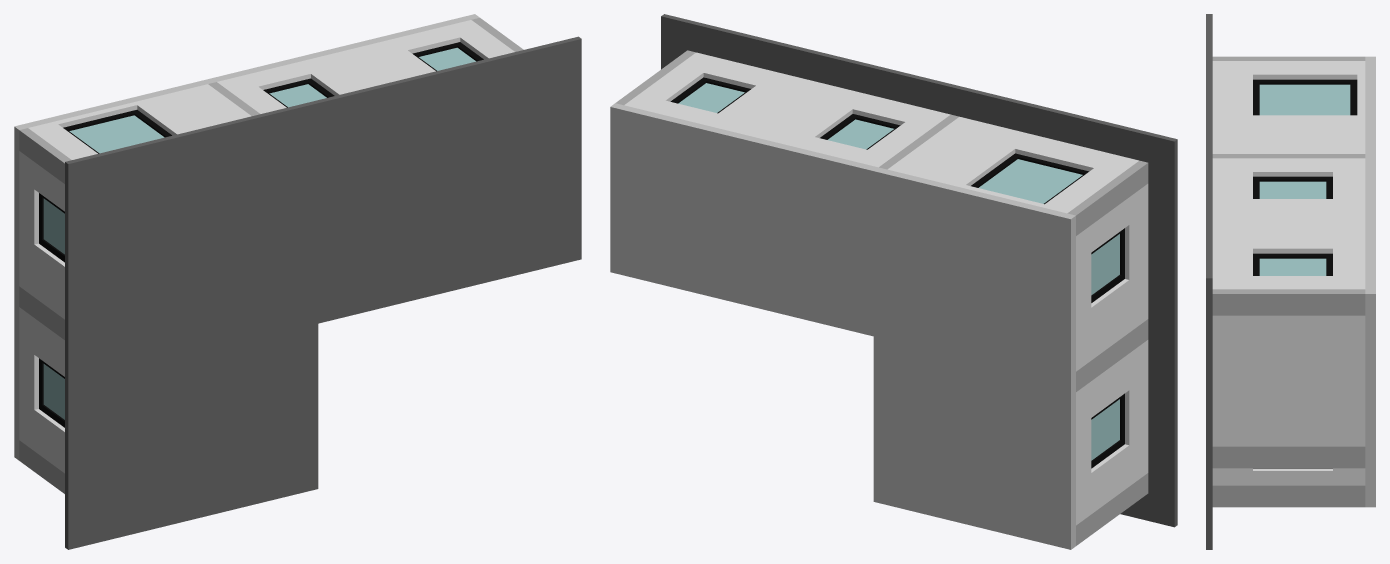
Rendered from simple_house.obj.
3 views of the same model, side by side, from view 1: azimuth 30°, elevation 25°; view 2: azimuth 150°, elevation 25°; view 3: azimuth 270°, elevation 25° (orthographic). The views are drawn at different scales.
Visible parts, largest first — view 1: product-2608bfda-357a-4d81-99b6-586236e699ac-body, product-5177c07d-1949-4ec3-9098-9faf3bc4de30-body, product-cb287437-29b7-40ee-905b-cf2fef98ae67-body, product-1bed01a7-3fe1-45c5-b6c5-83ef60fd93e1-body, product-2186517d-2895-45db-84b2-38f6161148fd-body, product-35ec06d4-7f92-47a0-930e-93475404eb10-body, product-4652bbab-67fd-4253-a5a3-3bbd23d864db-body, product-60af08d1-7662-49f6-a5cf-08085675c6b9-body, product-e8e21f68-936b-4b78-9d21-07a7d8bdc53f-body, product-c2cae6f0-ff74-4410-84e5-1d95f1990acc-body, product-641efbe4-3e51-4bde-99af-2de8535cf988-body, product-904be32f-842d-425d-80ed-c52557e54a40-body (+2 smaller); view 2: product-35ec06d4-7f92-47a0-930e-93475404eb10-body, product-2608bfda-357a-4d81-99b6-586236e699ac-body, product-5177c07d-1949-4ec3-9098-9faf3bc4de30-body, product-cb287437-29b7-40ee-905b-cf2fef98ae67-body, product-1bed01a7-3fe1-45c5-b6c5-83ef60fd93e1-body, product-2186517d-2895-45db-84b2-38f6161148fd-body, product-4652bbab-67fd-4253-a5a3-3bbd23d864db-body, product-60af08d1-7662-49f6-a5cf-08085675c6b9-body, product-e8e21f68-936b-4b78-9d21-07a7d8bdc53f-body, product-c2cae6f0-ff74-4410-84e5-1d95f1990acc-body, product-904be32f-842d-425d-80ed-c52557e54a40-body, product-641efbe4-3e51-4bde-99af-2de8535cf988-body (+3 smaller); view 3: product-d6cdd07e-2e5c-44ad-8872-70d639a0b66d-body, product-5177c07d-1949-4ec3-9098-9faf3bc4de30-body, product-cb287437-29b7-40ee-905b-cf2fef98ae67-body, product-35ec06d4-7f92-47a0-930e-93475404eb10-body, product-4970ea1e-a671-444c-970f-e6906e6ae2f7-body, product-4652bbab-67fd-4253-a5a3-3bbd23d864db-body, product-2608bfda-357a-4d81-99b6-586236e699ac-body, product-b0f89ff9-4473-4a27-9583-cf8b00036e07-body, product-5b9a482a-4d0f-4fe5-b77e-c57e13e64023-body, product-8f7c5409-3798-4d93-9f3e-0770854a4ba0-body, product-641efbe4-3e51-4bde-99af-2de8535cf988-body, product-904be32f-842d-425d-80ed-c52557e54a40-body (+2 smaller).
Boxes of the visible parts, <box> form: product-2608bfda-357a-4d81-99b6-586236e699ac-body: <box>65,36,581,549</box>; product-5177c07d-1949-4ec3-9098-9faf3bc4de30-body: <box>217,20,514,113</box>; product-cb287437-29b7-40ee-905b-cf2fef98ae67-body: <box>28,84,251,159</box>; product-1bed01a7-3fe1-45c5-b6c5-83ef60fd93e1-body: <box>19,151,64,319</box>; product-2186517d-2895-45db-84b2-38f6161148fd-body: <box>19,307,64,473</box>; product-35ec06d4-7f92-47a0-930e-93475404eb10-body: <box>14,14,479,460</box>; product-4652bbab-67fd-4253-a5a3-3bbd23d864db-body: <box>63,110,171,153</box>; product-60af08d1-7662-49f6-a5cf-08085675c6b9-body: <box>19,128,71,183</box>; product-e8e21f68-936b-4b78-9d21-07a7d8bdc53f-body: <box>39,193,64,262</box>; product-c2cae6f0-ff74-4410-84e5-1d95f1990acc-body: <box>39,358,64,427</box>; product-641efbe4-3e51-4bde-99af-2de8535cf988-body: <box>263,78,334,107</box>; product-904be32f-842d-425d-80ed-c52557e54a40-body: <box>412,42,483,71</box>; product-35ec06d4-7f92-47a0-930e-93475404eb10-body: <box>610,103,1075,549</box>; product-2608bfda-357a-4d81-99b6-586236e699ac-body: <box>661,14,1177,527</box>; product-5177c07d-1949-4ec3-9098-9faf3bc4de30-body: <box>624,52,950,167</box>; product-cb287437-29b7-40ee-905b-cf2fef98ae67-body: <box>887,116,1138,213</box>; product-1bed01a7-3fe1-45c5-b6c5-83ef60fd93e1-body: <box>1076,184,1148,371</box>; product-2186517d-2895-45db-84b2-38f6161148fd-body: <box>1076,340,1148,525</box>; product-4652bbab-67fd-4253-a5a3-3bbd23d864db-body: <box>971,153,1088,204</box>; product-60af08d1-7662-49f6-a5cf-08085675c6b9-body: <box>1067,160,1148,235</box>; product-e8e21f68-936b-4b78-9d21-07a7d8bdc53f-body: <box>1091,228,1124,302</box>; product-c2cae6f0-ff74-4410-84e5-1d95f1990acc-body: <box>1091,393,1124,468</box>; product-904be32f-842d-425d-80ed-c52557e54a40-body: <box>670,77,750,113</box>; product-641efbe4-3e51-4bde-99af-2de8535cf988-body: <box>820,114,900,149</box>; product-d6cdd07e-2e5c-44ad-8872-70d639a0b66d-body: <box>1212,315,1365,446</box>; product-5177c07d-1949-4ec3-9098-9faf3bc4de30-body: <box>1212,158,1365,289</box>; product-cb287437-29b7-40ee-905b-cf2fef98ae67-body: <box>1212,61,1365,153</box>; product-35ec06d4-7f92-47a0-930e-93475404eb10-body: <box>1365,56,1375,507</box>; product-4970ea1e-a671-444c-970f-e6906e6ae2f7-body: <box>1212,289,1365,315</box>; product-4652bbab-67fd-4253-a5a3-3bbd23d864db-body: <box>1253,79,1357,115</box>; product-2608bfda-357a-4d81-99b6-586236e699ac-body: <box>1206,14,1212,549</box>; product-b0f89ff9-4473-4a27-9583-cf8b00036e07-body: <box>1212,485,1365,507</box>; product-5b9a482a-4d0f-4fe5-b77e-c57e13e64023-body: <box>1212,446,1365,468</box>; product-8f7c5409-3798-4d93-9f3e-0770854a4ba0-body: <box>1212,468,1365,485</box>; product-641efbe4-3e51-4bde-99af-2de8535cf988-body: <box>1253,176,1332,198</box>; product-904be32f-842d-425d-80ed-c52557e54a40-body: <box>1253,253,1332,275</box>.
Size of the model in its own units: 11.7 by 8.4 by 3.17.
